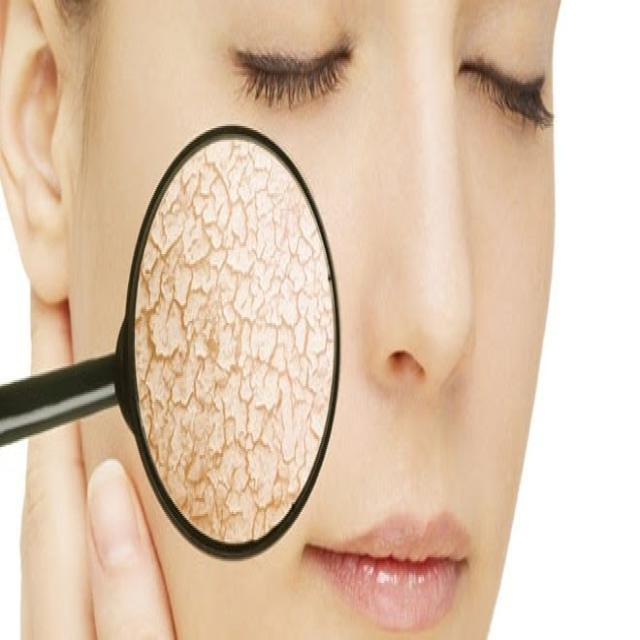dry: (136, 132, 336, 542)
